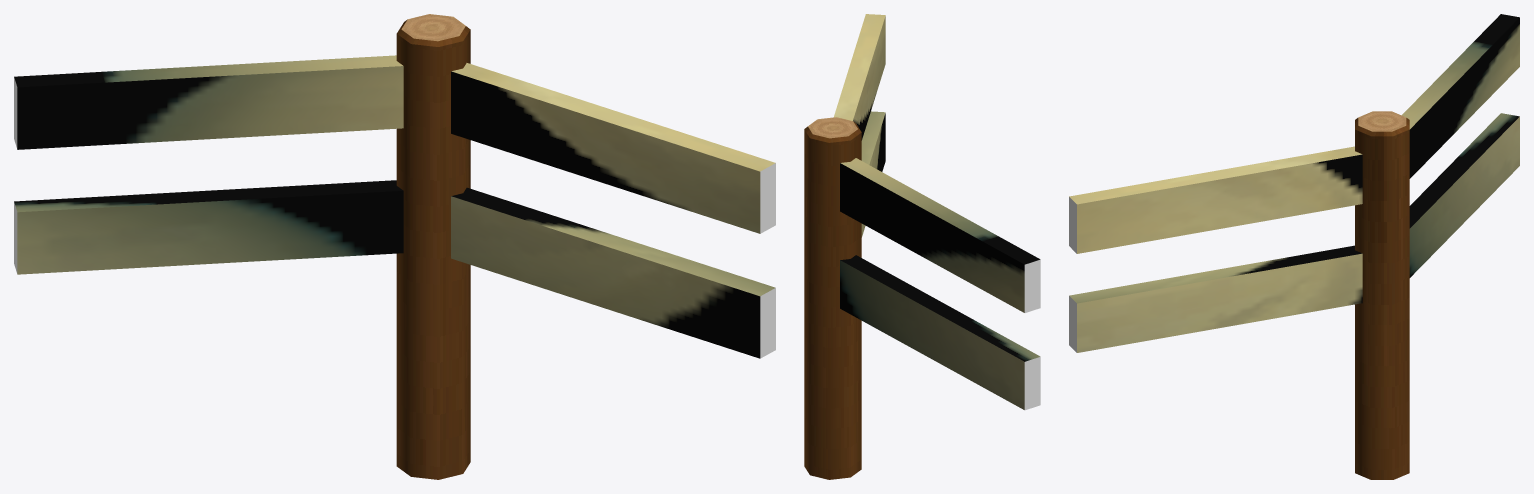
The model's file is Path_Fence_Curve_1x1.fbx.
3 views of the same model, side by side, from view 1: azimuth 30°, elevation 25°; view 2: azimuth 150°, elevation 25°; view 3: azimuth 270°, elevation 25° (orthographic). The views are drawn at different scales.
Visible parts, largest first — view 1: Path_Fence_Curve_1x1; view 2: Path_Fence_Curve_1x1; view 3: Path_Fence_Curve_1x1.
Part boxes in pixels (left/top/right/bottom): Path_Fence_Curve_1x1: left=14, top=14, right=775, bottom=479; Path_Fence_Curve_1x1: left=804, top=14, right=1040, bottom=479; Path_Fence_Curve_1x1: left=1069, top=14, right=1519, bottom=479.
Bounding box in the file's own units: 103 × 87.5 × 103.
